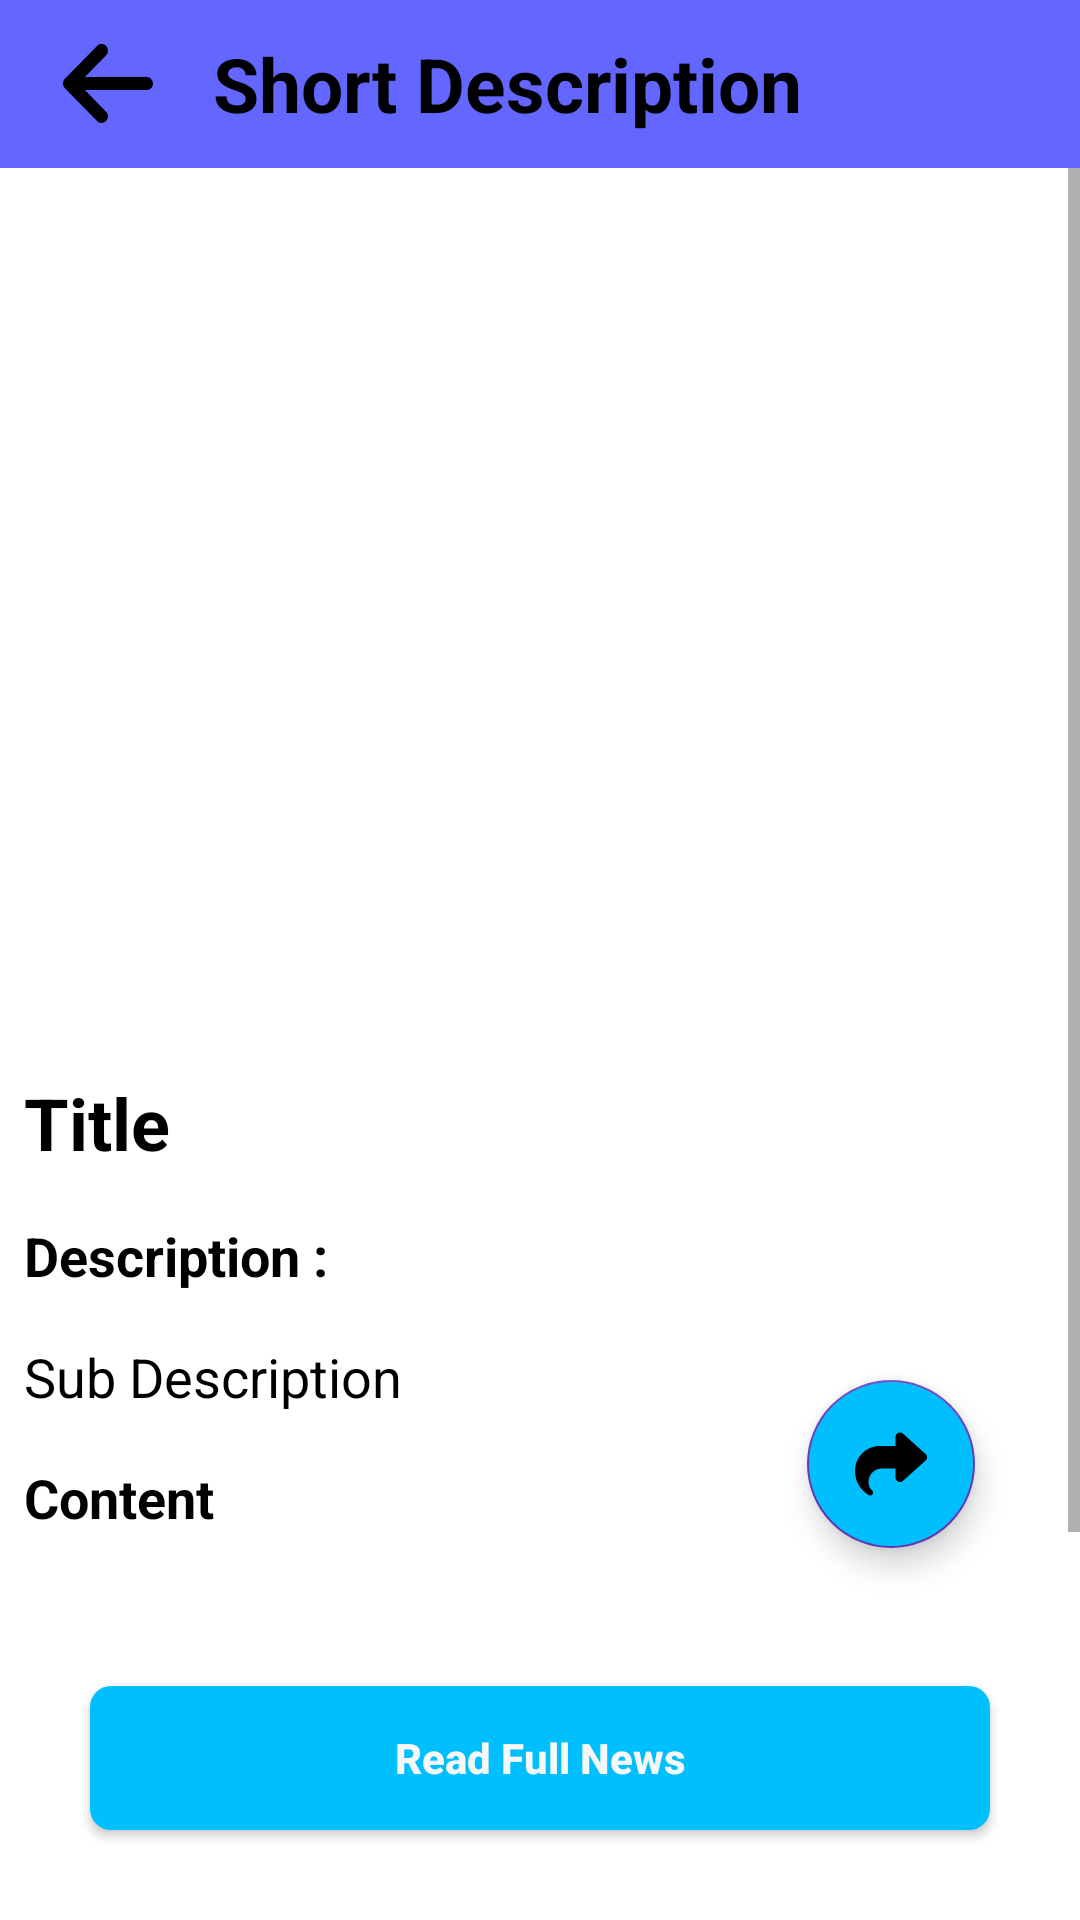

Named icons in this screenshot (1080w x 1920h) and their bounding boxes, (x1, y1, x2, y2):
arrow left: (63, 44, 153, 123)
share: (807, 1380, 975, 1548)
